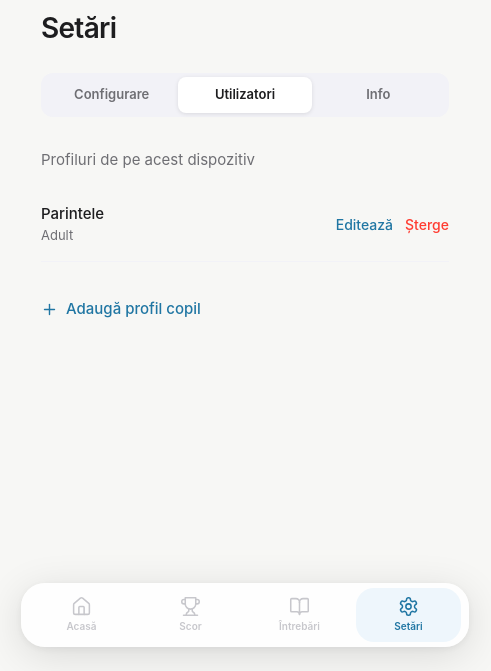
Test: R8: Setări > Configurare -- prize states › fewer than 2 configured options shows 'not established yet'
This screenshot has width=491, height=671.
Click the button "Configurare" at (112, 95), box 45,77 -> 178,112
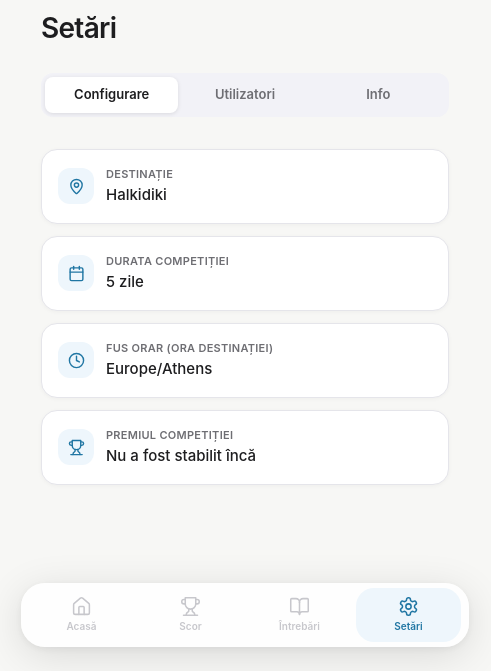
Expected: the text "Nu a fost stabilit încă" is shown, 106,446 -> 256,465
